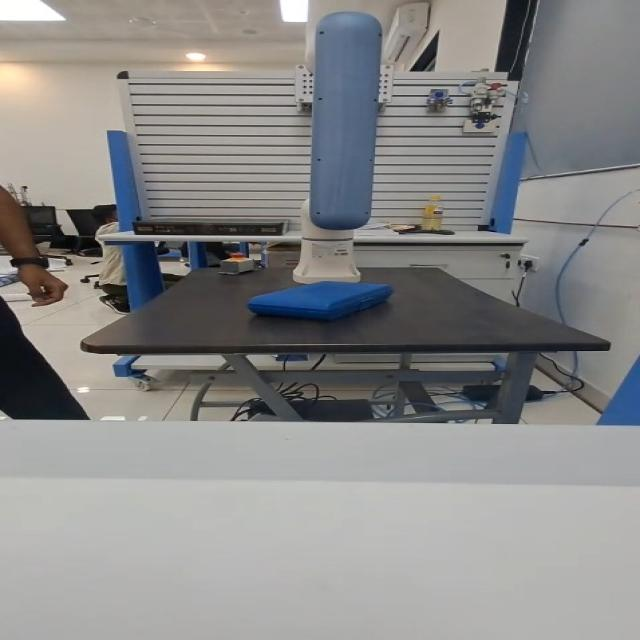top-surface: (278, 284, 363, 300)
